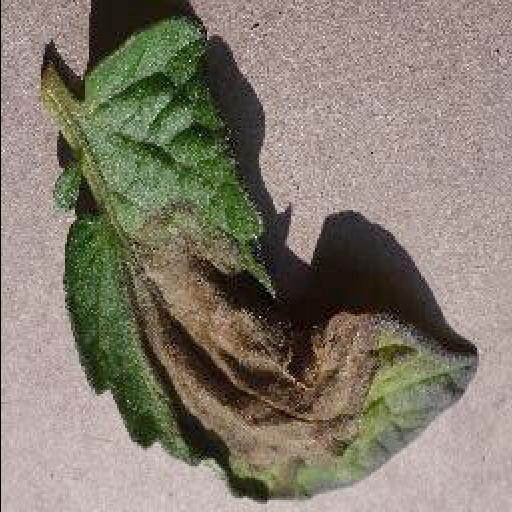disease_tomato: (46, 20, 476, 504)
